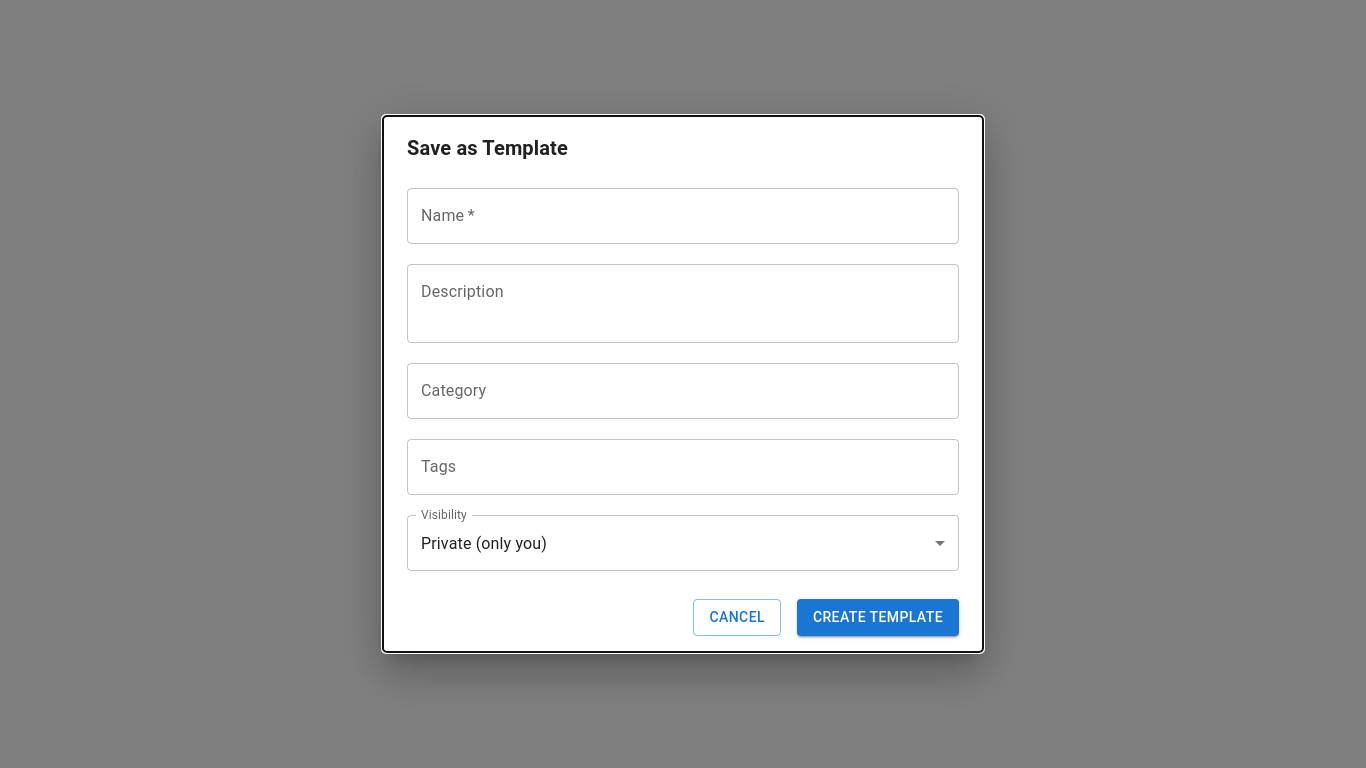
Scenario: SaveAsTemplateModal › shows validation error when name contains disallowed characters
The width and height of the screenshot is (1366, 768).
Step 1. Type "Bad@Name" into the field labelled "Name *" → (683, 216), box [407,188,959,244]
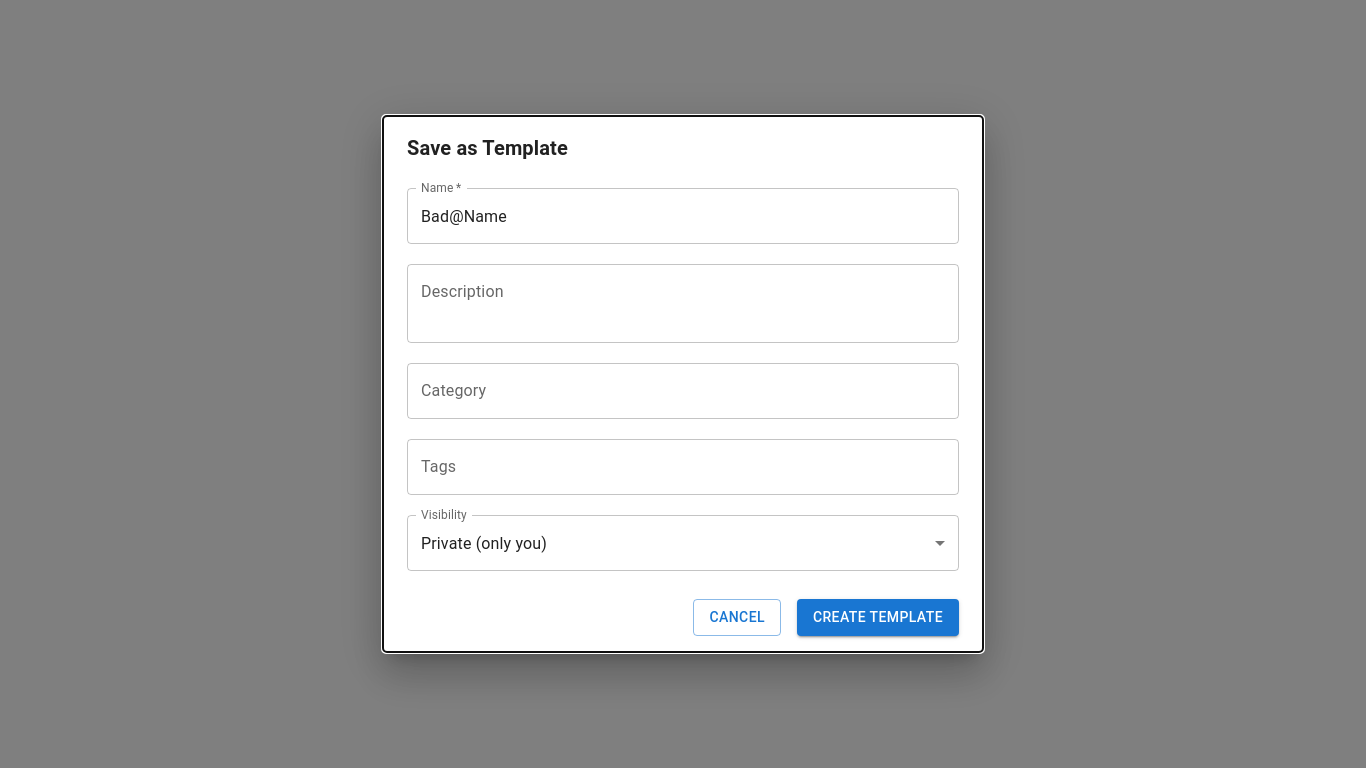
Step 2. Click the button "Create Template" → (878, 618), box [797,599,959,636]
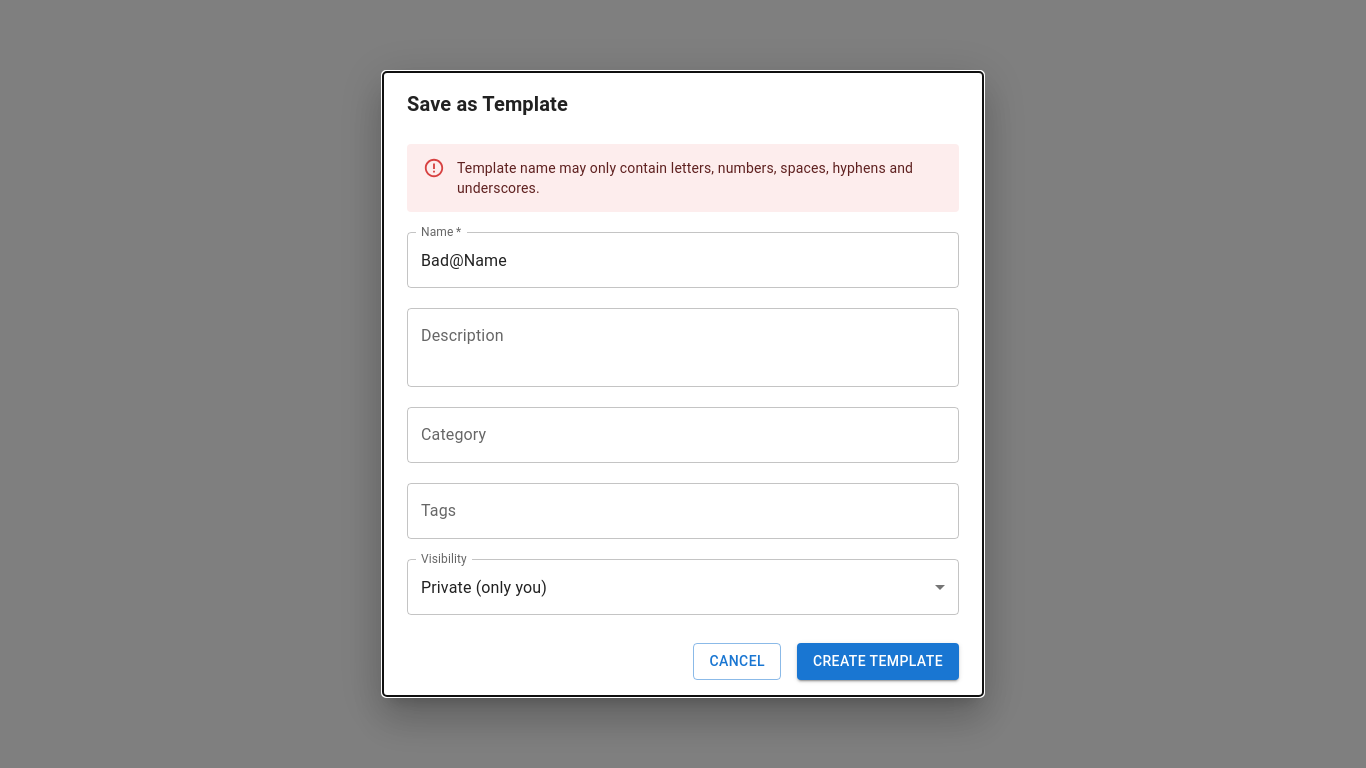
expect the text "Template name may only contain letters, numbers, spaces, hyphens and underscores." is shown: met, box [457,160,913,196]
